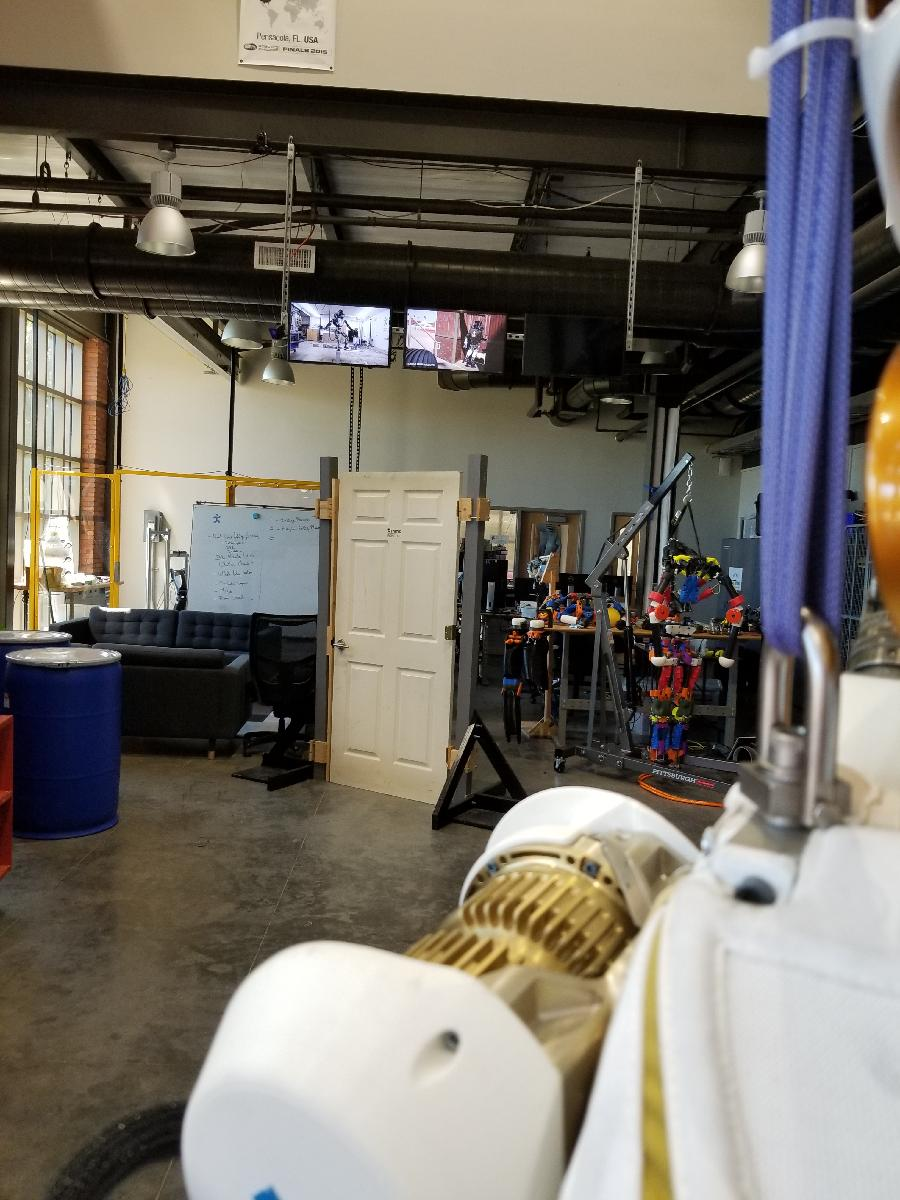door: (327, 470, 466, 810)
doorHandle: (330, 635, 350, 657)
